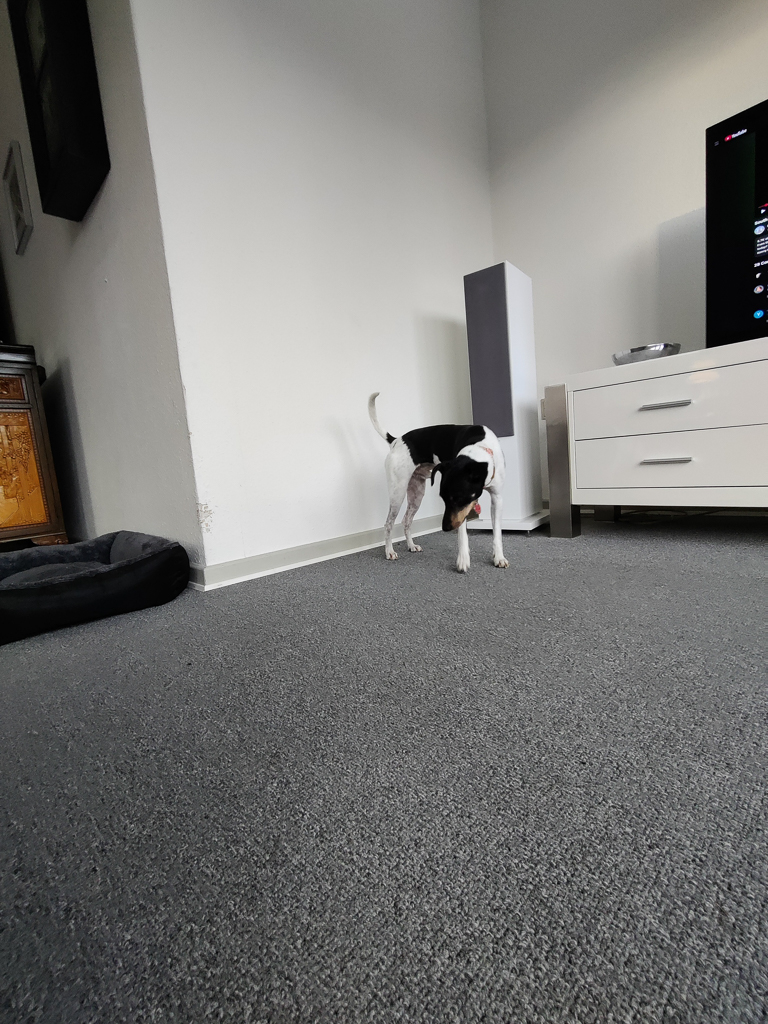Dog: (346, 379, 519, 586)
